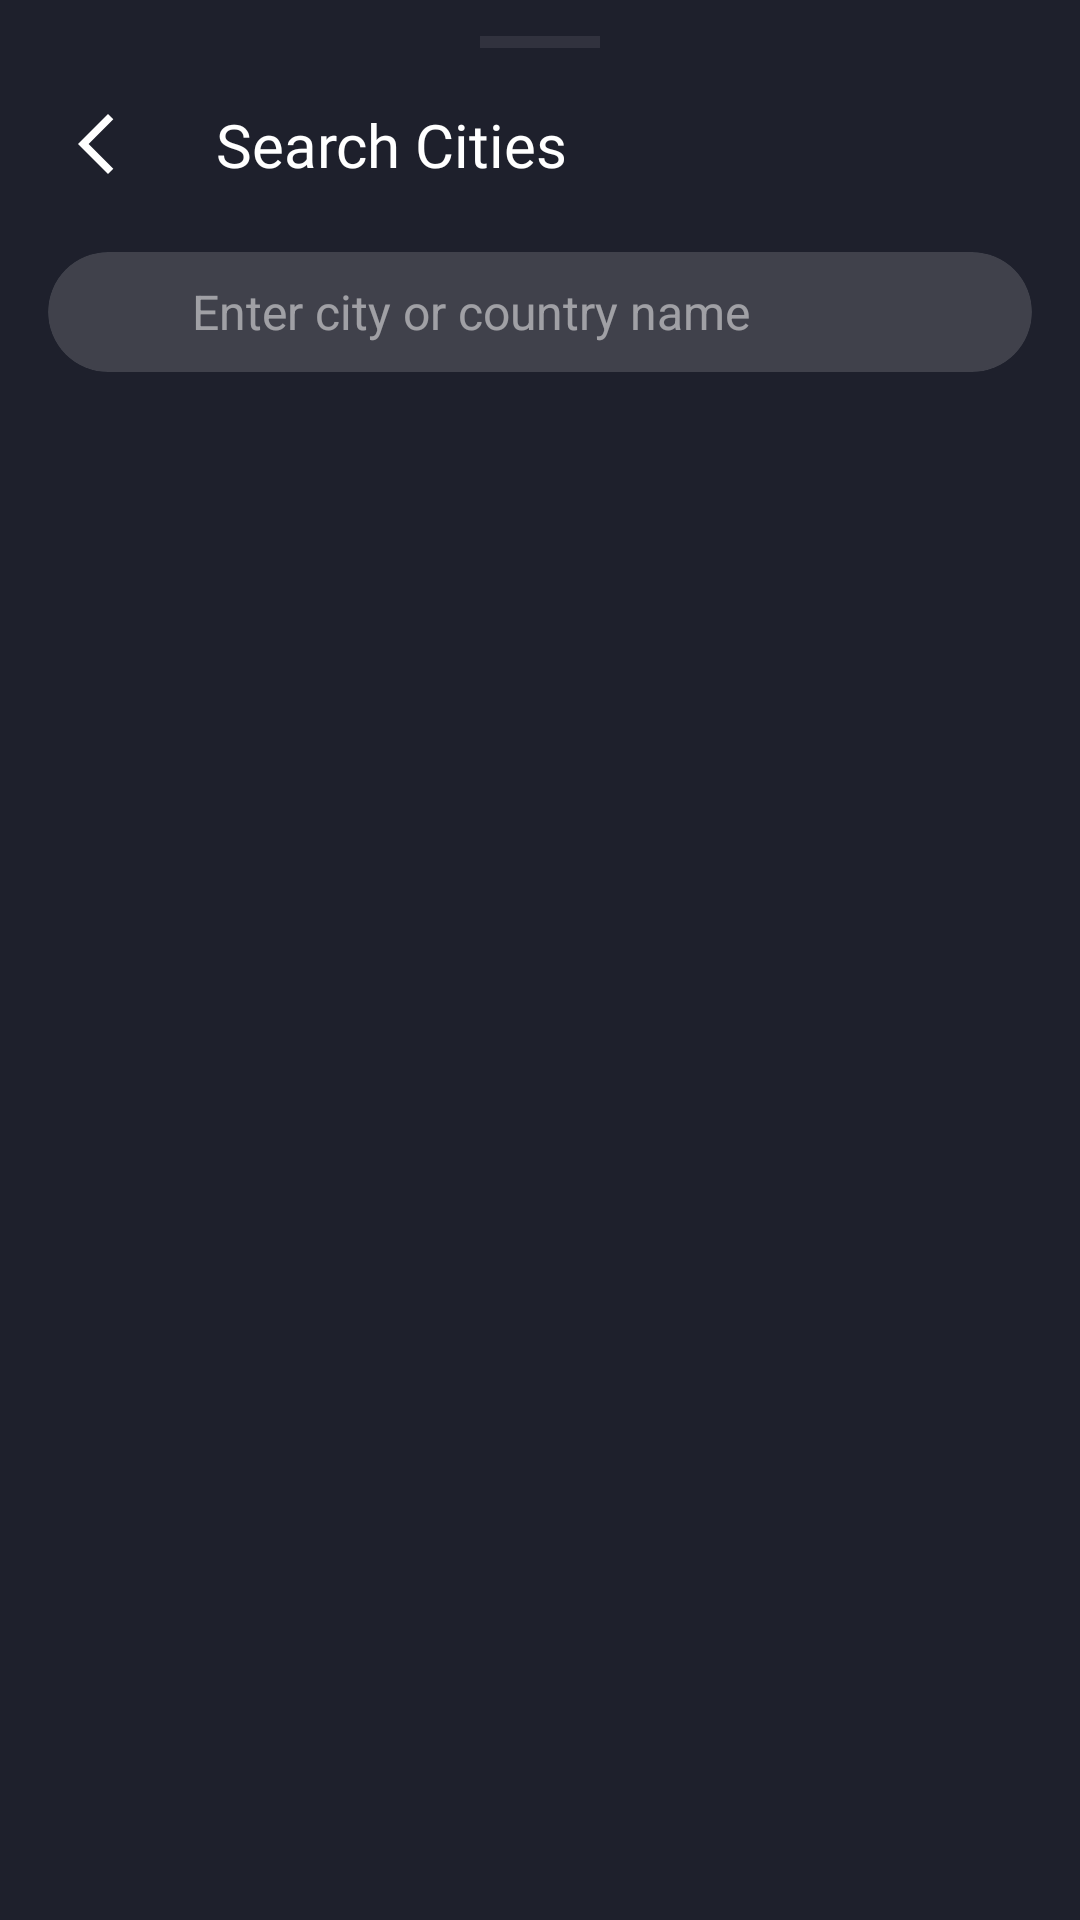

Point at icon controls on the screen. Image size 1080×1920, points as [x,y].
Back: [95,144]
